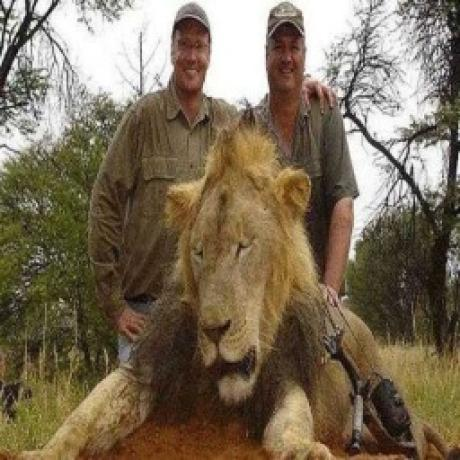Lion: (15, 122, 404, 460)
